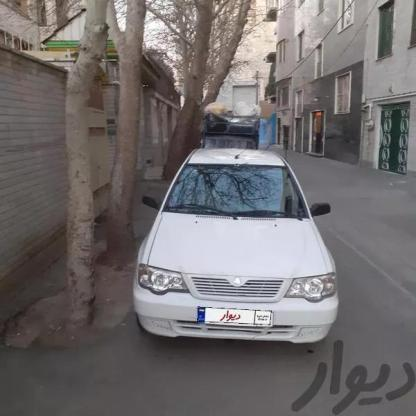Car: (126, 137, 340, 354)
